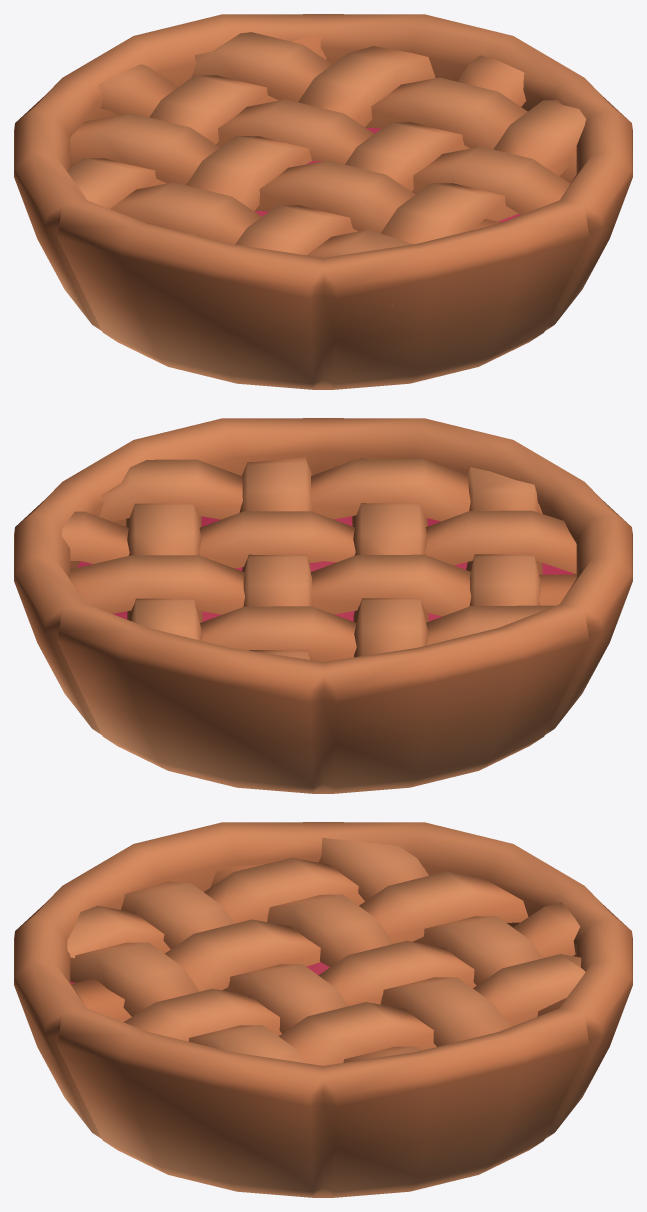
The model's file is Pie Cherry.glb.
3 renders of one model, top to bottom at view 1: azimuth 30°, elevation 25°; view 2: azimuth 150°, elevation 25°; view 3: azimuth 270°, elevation 25°, orthographic.
Visible parts, largest first — view 1: pie_cherry; view 2: pie_cherry; view 3: pie_cherry.
Boxes of the visible parts, left/top/right/bottom form: pie_cherry: left=14, top=14, right=632, bottom=389; pie_cherry: left=14, top=418, right=632, bottom=793; pie_cherry: left=14, top=822, right=632, bottom=1197.
Bounding box in the file's own units: 1.16 × 0.3153 × 1.14.
1 material, 1 textured.
